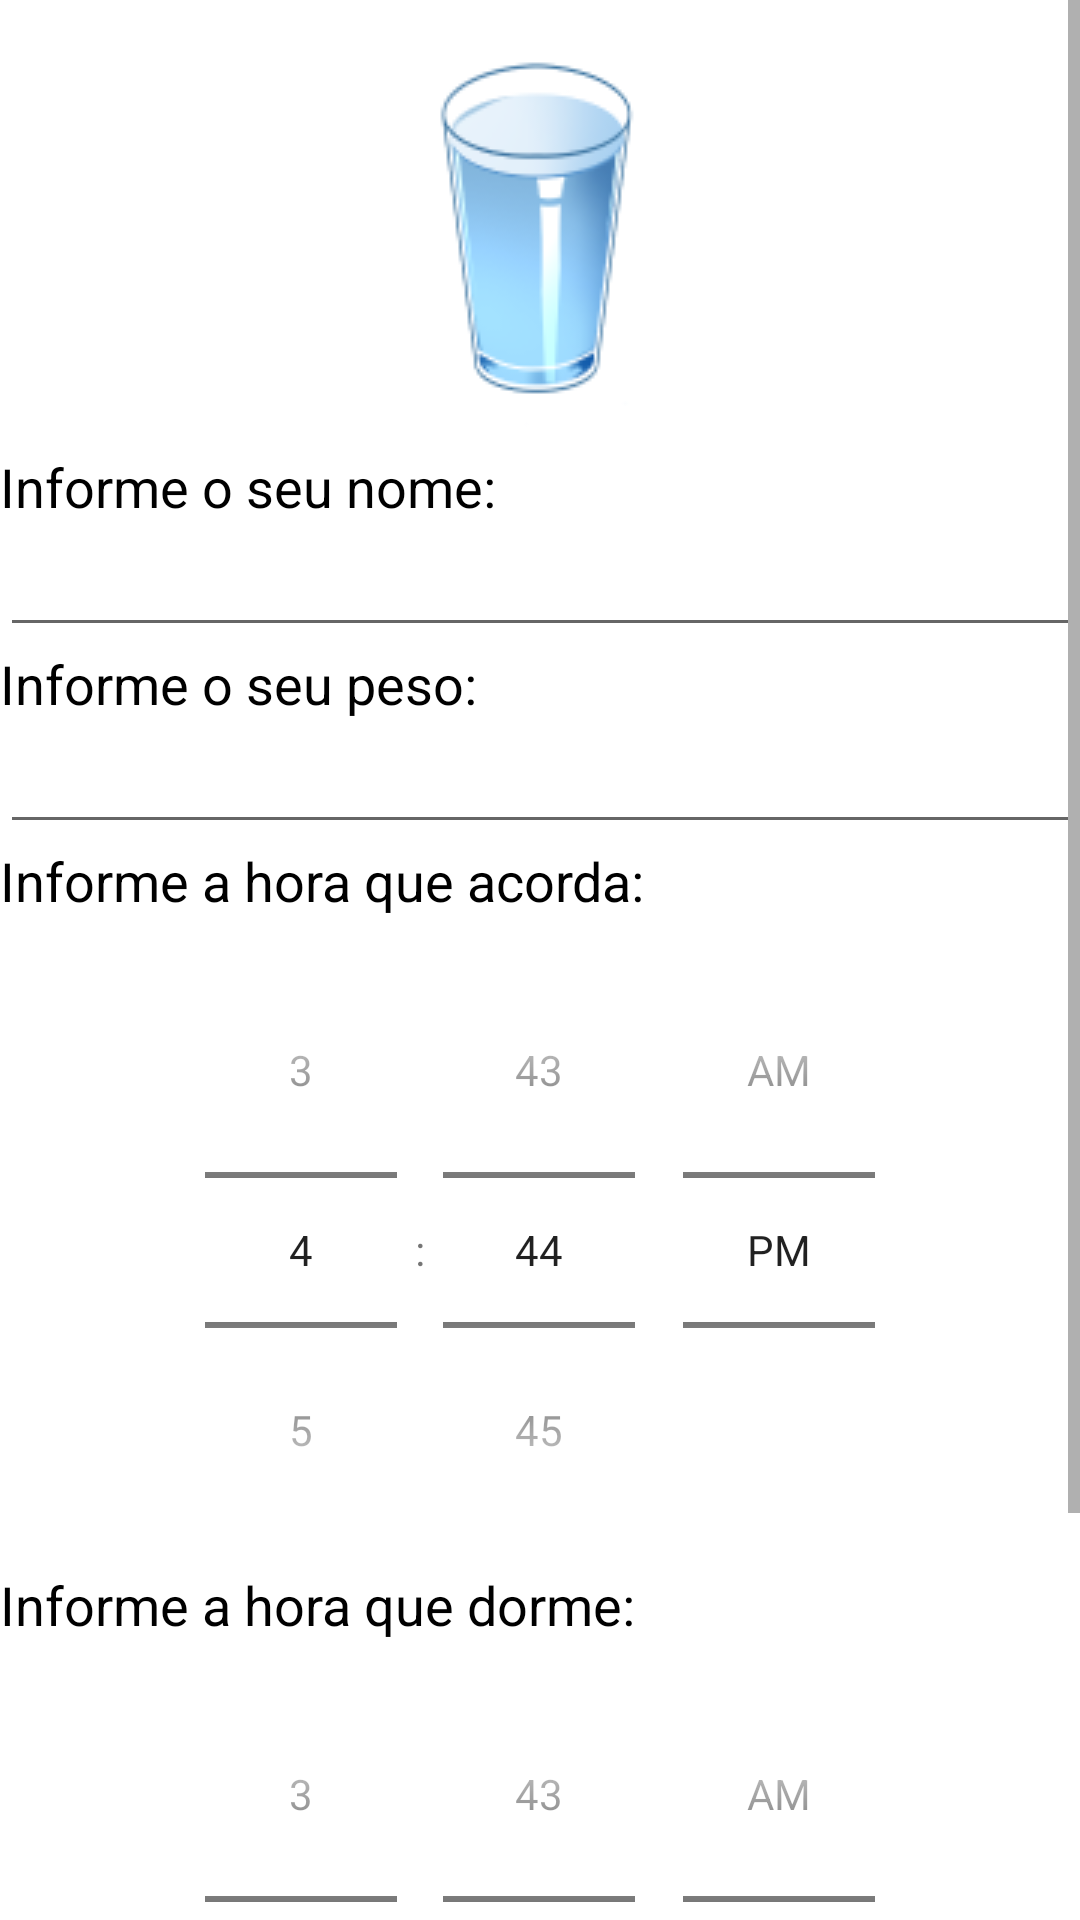

Named icons in this screenshot (1080x1920) and their bounding boxes, (x1=x1, y1=y1, x2=x2, y2=y2):
copo: (x1=440, y1=62, x2=633, y2=394)
